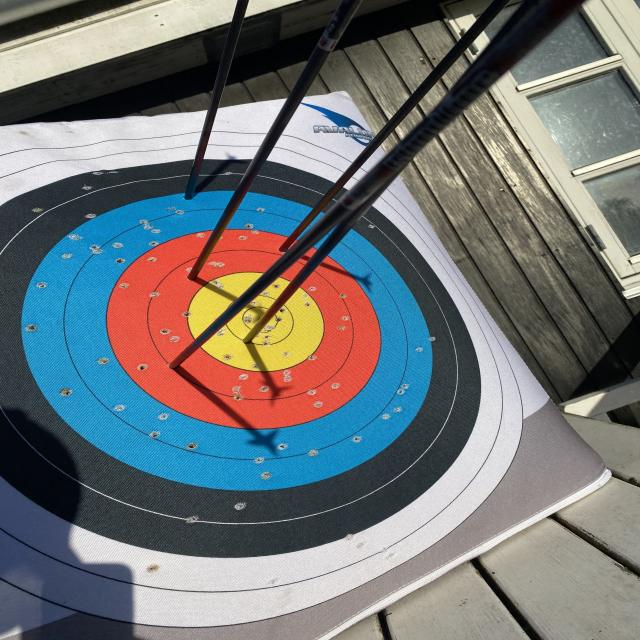Arrow_Blue: (178, 176, 206, 216)
Arrow_Red: (164, 350, 206, 382), (263, 233, 312, 256), (178, 264, 216, 289)
Arrow_Yellow: (232, 330, 278, 352)
